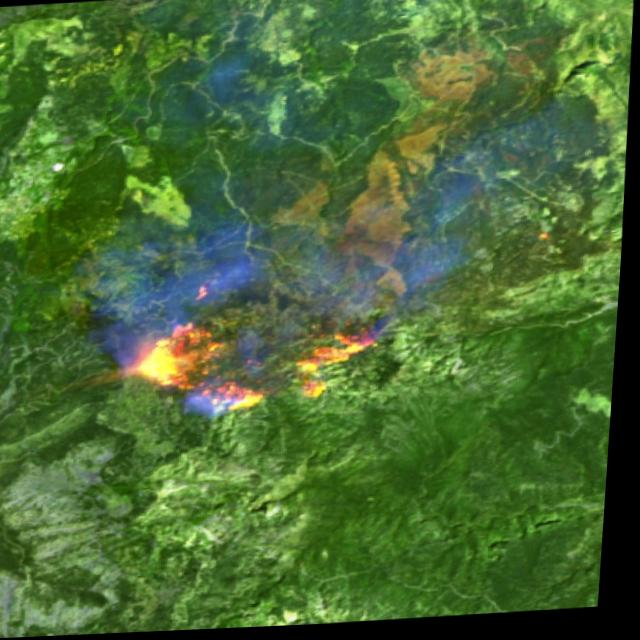fire: (106, 300, 405, 425)
